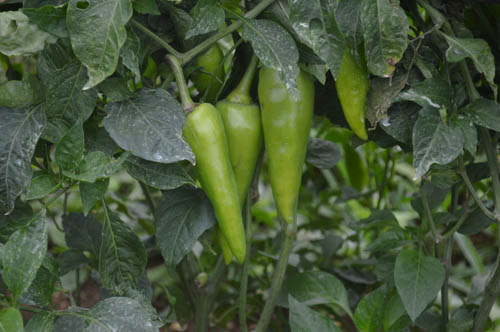ChiliPepper: (188, 104, 245, 260), (211, 99, 262, 260), (261, 65, 307, 223), (337, 55, 369, 135)
